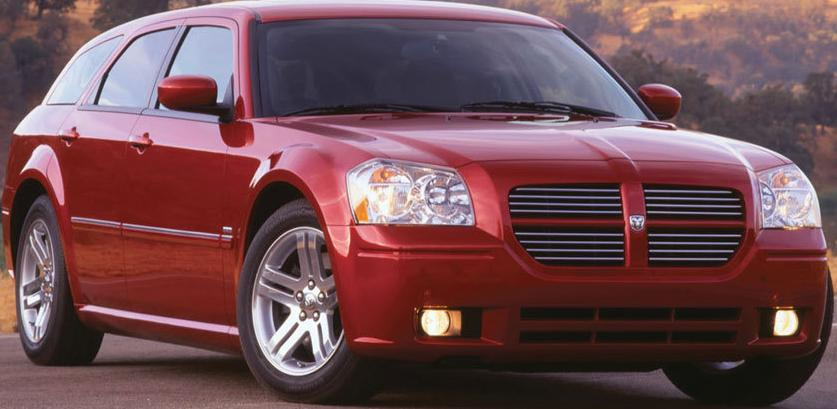front_view: (333, 134, 833, 364)
headlight: (324, 144, 477, 234)
side_glass: (91, 19, 247, 116)
